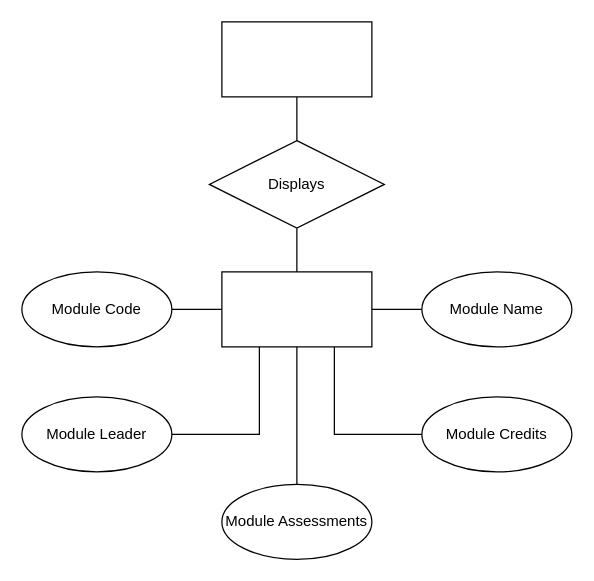
Image size: 594x581. Some labels were removed from this diagram. The shapes that lost their labels are listed below. From the top down, each one's centre as x and y in pixels, then its label:
At [296,59]: "User".
At [296,309]: "Modules Information".
